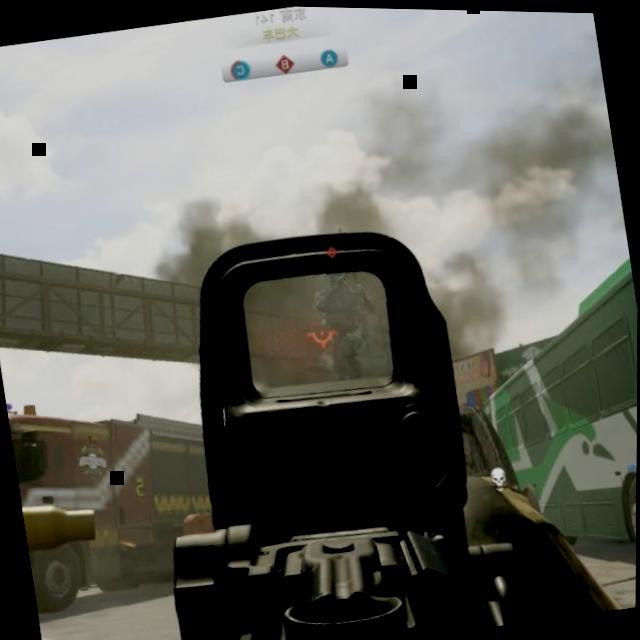MW2_body: (307, 239, 382, 383)
